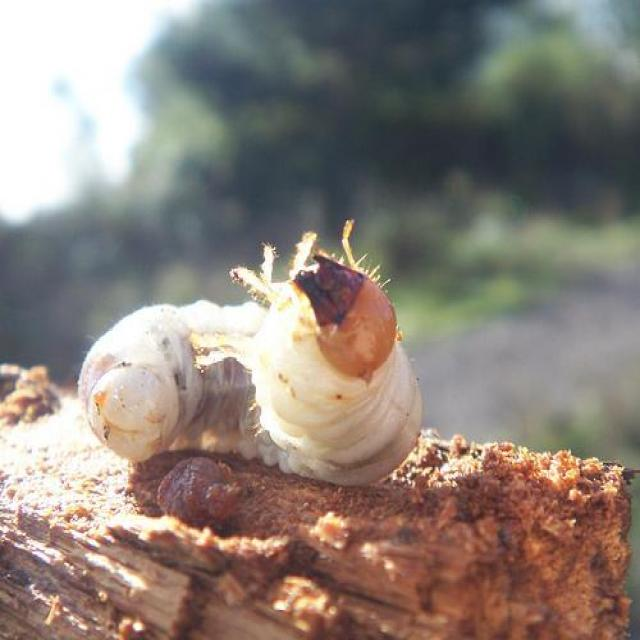Grub-Adult-: (67, 197, 438, 490)
